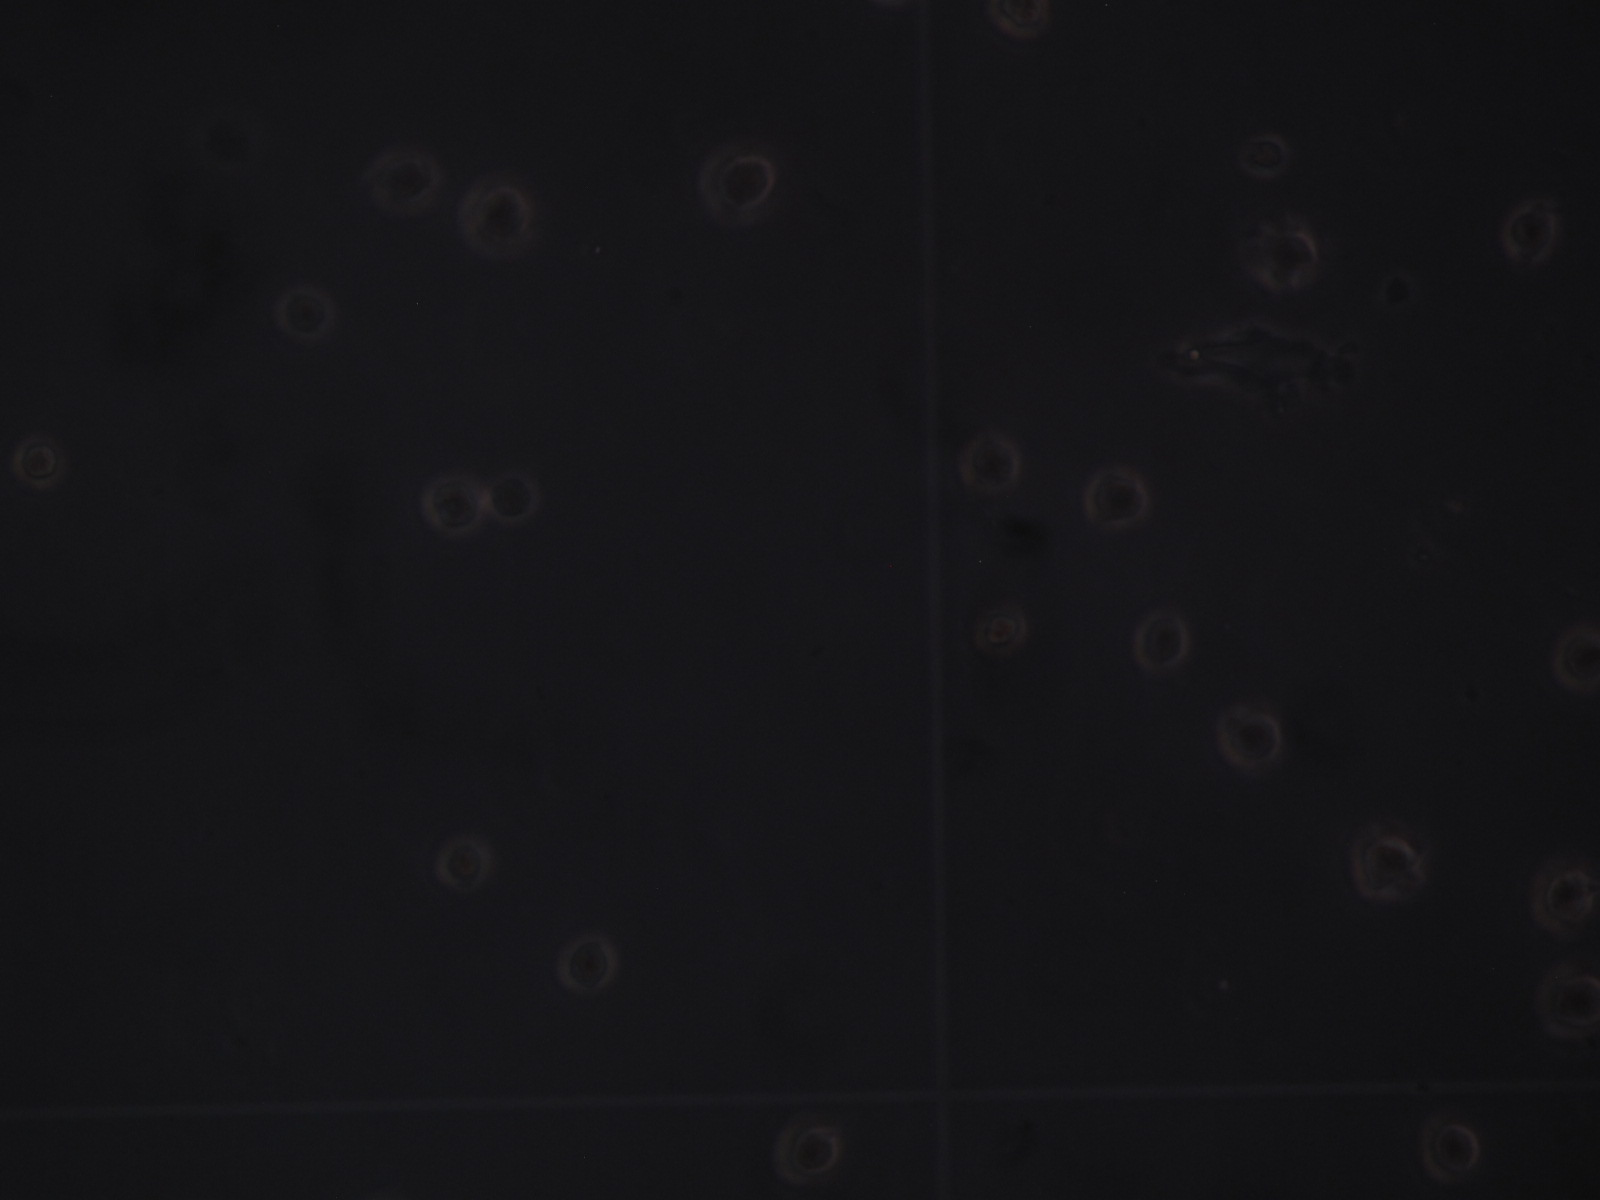hemo: (697, 146, 774, 228), (1349, 826, 1421, 905), (462, 185, 529, 263), (1532, 868, 1597, 945), (772, 1123, 842, 1185), (1083, 469, 1149, 532), (1420, 1118, 1482, 1181), (425, 471, 485, 536), (960, 434, 1020, 495), (1220, 711, 1283, 768), (1136, 610, 1191, 676), (373, 154, 438, 208), (1257, 233, 1315, 291), (1502, 200, 1553, 265), (559, 935, 616, 993), (438, 839, 491, 895), (278, 292, 334, 342), (488, 466, 537, 521), (1235, 135, 1293, 180), (974, 609, 1028, 657), (16, 437, 66, 487), (990, 1, 1047, 38)
